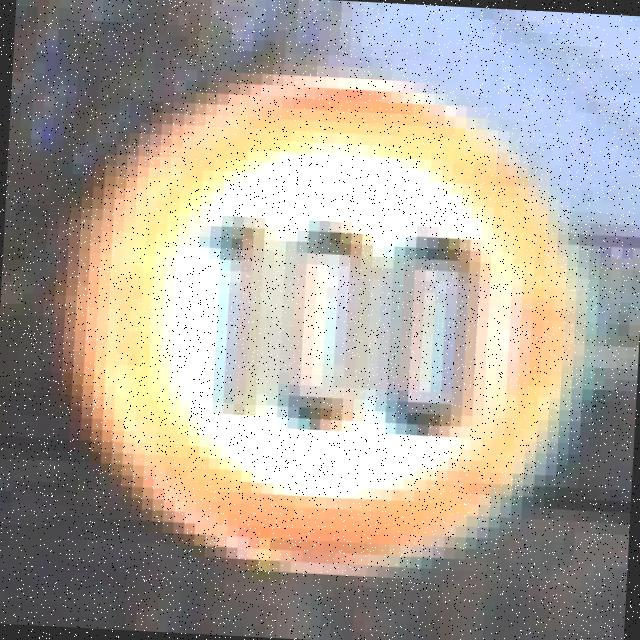Ograniczenie predkosci do 100: (92, 76, 578, 586)
